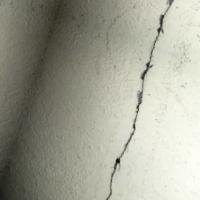crack: (100, 0, 179, 199)
